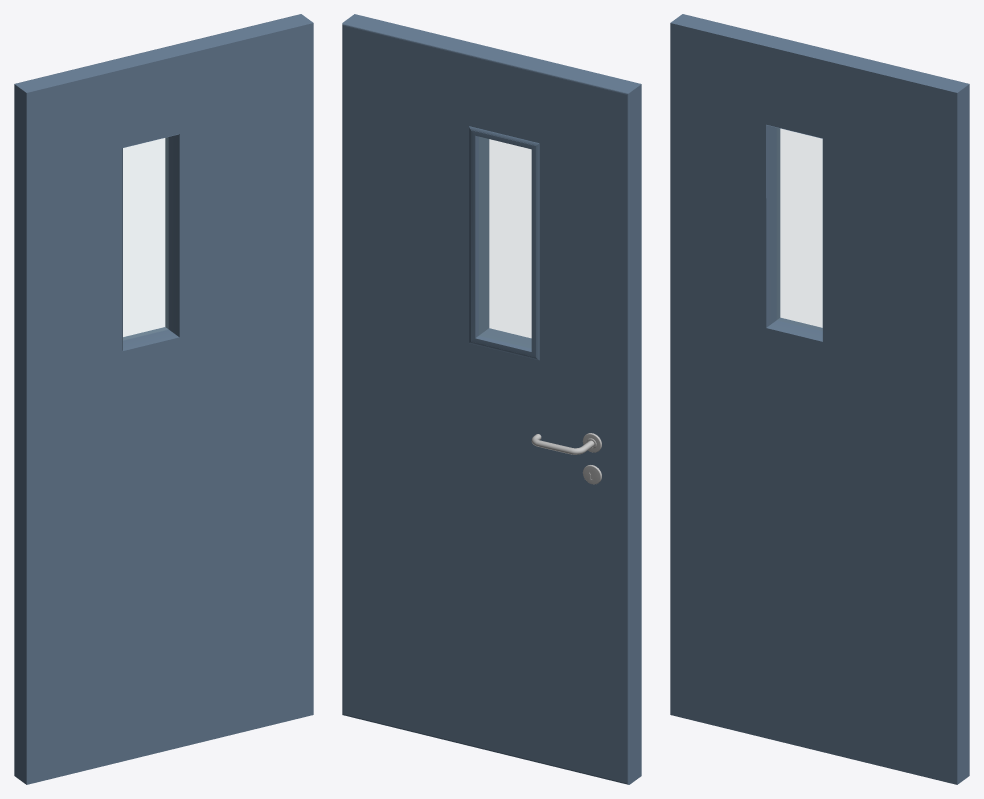
The model's file is left_door.glb.
3 views of the same model, side by side, from view 1: azimuth 30°, elevation 25°; view 2: azimuth 150°, elevation 25°; view 3: azimuth 330°, elevation 25° (orthographic).
Visible parts, largest first — view 1: Object1903.001, 36fasdas2114.001; view 2: Object1903.001, 36fasdas2114.001, Object1904.001; view 3: Object1903.001, 36fasdas2114.001.
Boxes of the visible parts, x1,y1,x2,y2 form: Object1903.001: [14, 14, 313, 784]; 36fasdas2114.001: [123, 138, 167, 339]; Object1903.001: [342, 14, 641, 784]; 36fasdas2114.001: [479, 137, 530, 347]; Object1904.001: [531, 433, 601, 484]; Object1903.001: [670, 14, 969, 784]; 36fasdas2114.001: [777, 128, 821, 330].
Bounding box in the file's own units: 1.41 × 3.25 × 0.2447.
